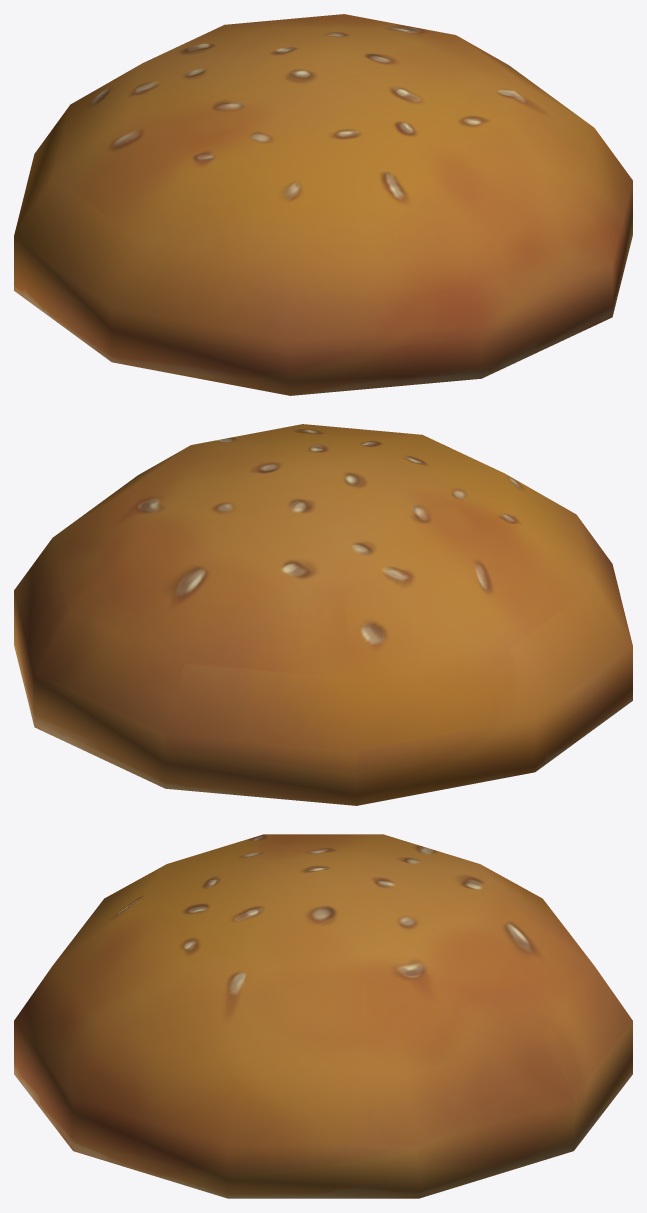
File: Pan.fbx
The picture shows the model from 3 angles, top to bottom: view 1: azimuth 30°, elevation 25°; view 2: azimuth 150°, elevation 25°; view 3: azimuth 270°, elevation 25°; orthographic projection. The views are drawn at different scales.
Parts seen in each view (by area): view 1: Cylinder; view 2: Cylinder; view 3: Cylinder.
Part boxes in pixels (box(x1,y1,x2,y2)): Cylinder: box(14, 14, 632, 395); Cylinder: box(14, 424, 632, 805); Cylinder: box(14, 834, 632, 1198).
Bounding box in the file's own units: 190 × 70.99 × 200.
Materials: 1 (1 with a texture image).
